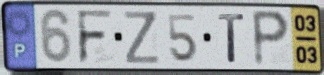5: (166, 12, 199, 63)
6: (38, 7, 76, 68)
F: (75, 8, 116, 66)
P: (250, 8, 292, 69)
T: (217, 11, 247, 65)
Z: (122, 9, 163, 66)
